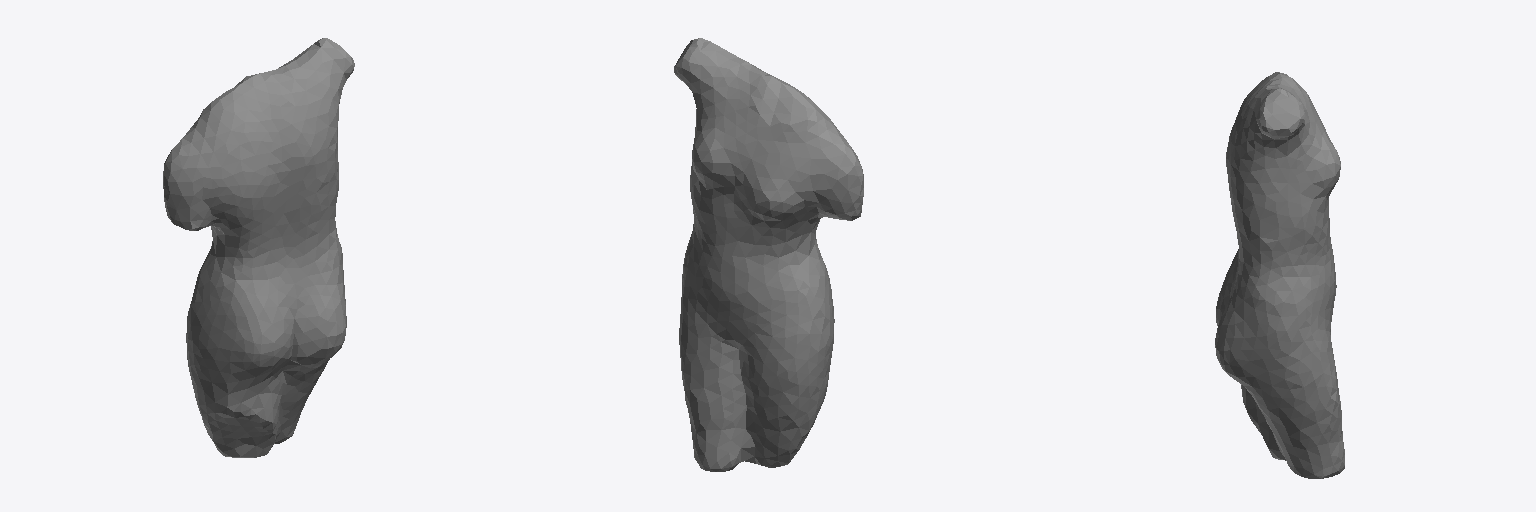
Rendered from greek_woman_torso.obj.
3 renders of one model, left to right at view 1: azimuth 30°, elevation 25°; view 2: azimuth 150°, elevation 25°; view 3: azimuth 270°, elevation 25°, orthographic.
Parts seen in each view (by area): view 1: greek_woman_torso; view 2: greek_woman_torso; view 3: greek_woman_torso.
Boxes of the visible parts, <box> form: greek_woman_torso: <box>163,38,354,457</box>; greek_woman_torso: <box>674,38,863,471</box>; greek_woman_torso: <box>1215,72,1344,478</box>.
Bounding box in the file's own units: 5.82 × 12.07 × 3.55.